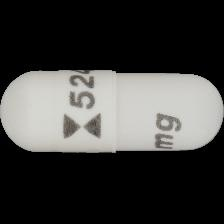0172-5240: (0, 0, 224, 224)
